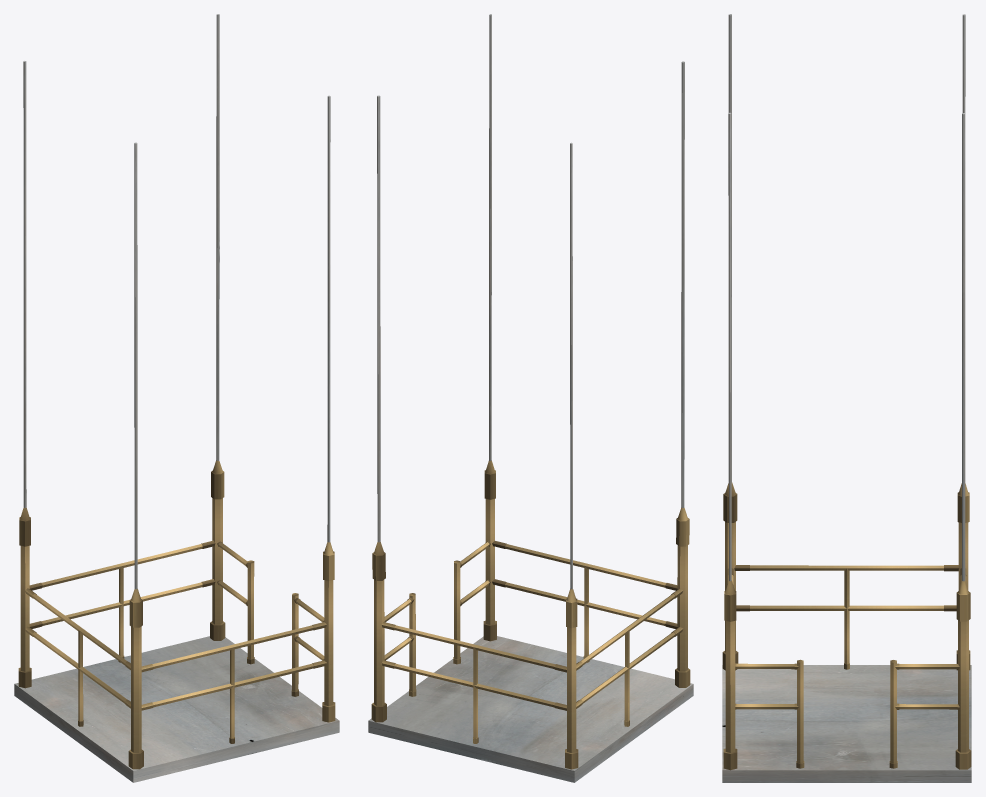
The model's file is LiftAnimStationary.fbx.
3 views of the same model, side by side, from view 1: azimuth 30°, elevation 25°; view 2: azimuth 150°, elevation 25°; view 3: azimuth 270°, elevation 25° (orthographic). The views are drawn at different scales.
Parts seen in each view (by area): view 1: cable_platform, cable (×4), railingT (×3), railingB (×3), cablerailing1, cablerailing3, cablerailing2, cablerailing, entrancebar1, entrancebar; view 2: cable_platform, cable (×4), railingT (×3), railingB (×3), cablerailing3, cablerailing1, cablerailing, cablerailing2, entrancebar, entrancebar1; view 3: cable_platform, cable (×3), cablerailing3, cablerailing2, railingT, railingB, cablerailing1, cablerailing, entrancebar, entrancebar1, railingmid_1.
Boxes of the visible parts, x1=… form: cable_platform: x1=14, y1=636, x2=339, y2=782; cable (×4): x1=23, y1=14, x2=330, y2=589; railingT (×3): x1=25, y1=540, x2=326, y2=672; railingB (×3): x1=25, y1=579, x2=326, y2=710; cablerailing1: x1=128, y1=589, x2=143, y2=769; cablerailing3: x1=210, y1=460, x2=225, y2=640; cablerailing2: x1=322, y1=542, x2=335, y2=722; cablerailing: x1=18, y1=507, x2=31, y2=688; entrancebar1: x1=247, y1=560, x2=254, y2=664; entrancebar: x1=291, y1=593, x2=298, y2=696; cable_platform: x1=368, y1=636, x2=693, y2=782; cable (×4): x1=377, y1=14, x2=684, y2=589; railingT (×3): x1=382, y1=541, x2=683, y2=672; railingB (×3): x1=382, y1=579, x2=682, y2=710; cablerailing3: x1=371, y1=542, x2=386, y2=722; cablerailing1: x1=675, y1=507, x2=690, y2=687; cablerailing: x1=565, y1=589, x2=578, y2=769; cablerailing2: x1=483, y1=460, x2=496, y2=641; entrancebar: x1=453, y1=560, x2=460, y2=664; entrancebar1: x1=409, y1=593, x2=416, y2=696; cable_platform: x1=722, y1=665, x2=971, y2=782; cable (×3): x1=728, y1=14, x2=965, y2=581; cablerailing3: x1=955, y1=581, x2=971, y2=769; cablerailing2: x1=723, y1=580, x2=737, y2=770; railingT: x1=734, y1=565, x2=958, y2=571; railingB: x1=736, y1=605, x2=956, y2=611; cablerailing1: x1=722, y1=482, x2=738, y2=670; cablerailing: x1=956, y1=483, x2=970, y2=670; entrancebar: x1=796, y1=659, x2=804, y2=768; entrancebar1: x1=889, y1=660, x2=897, y2=768; railingmid_1: x1=844, y1=568, x2=849, y2=669.
Bounding box in the file's own units: 2.25 × 6.62 × 2.25.
